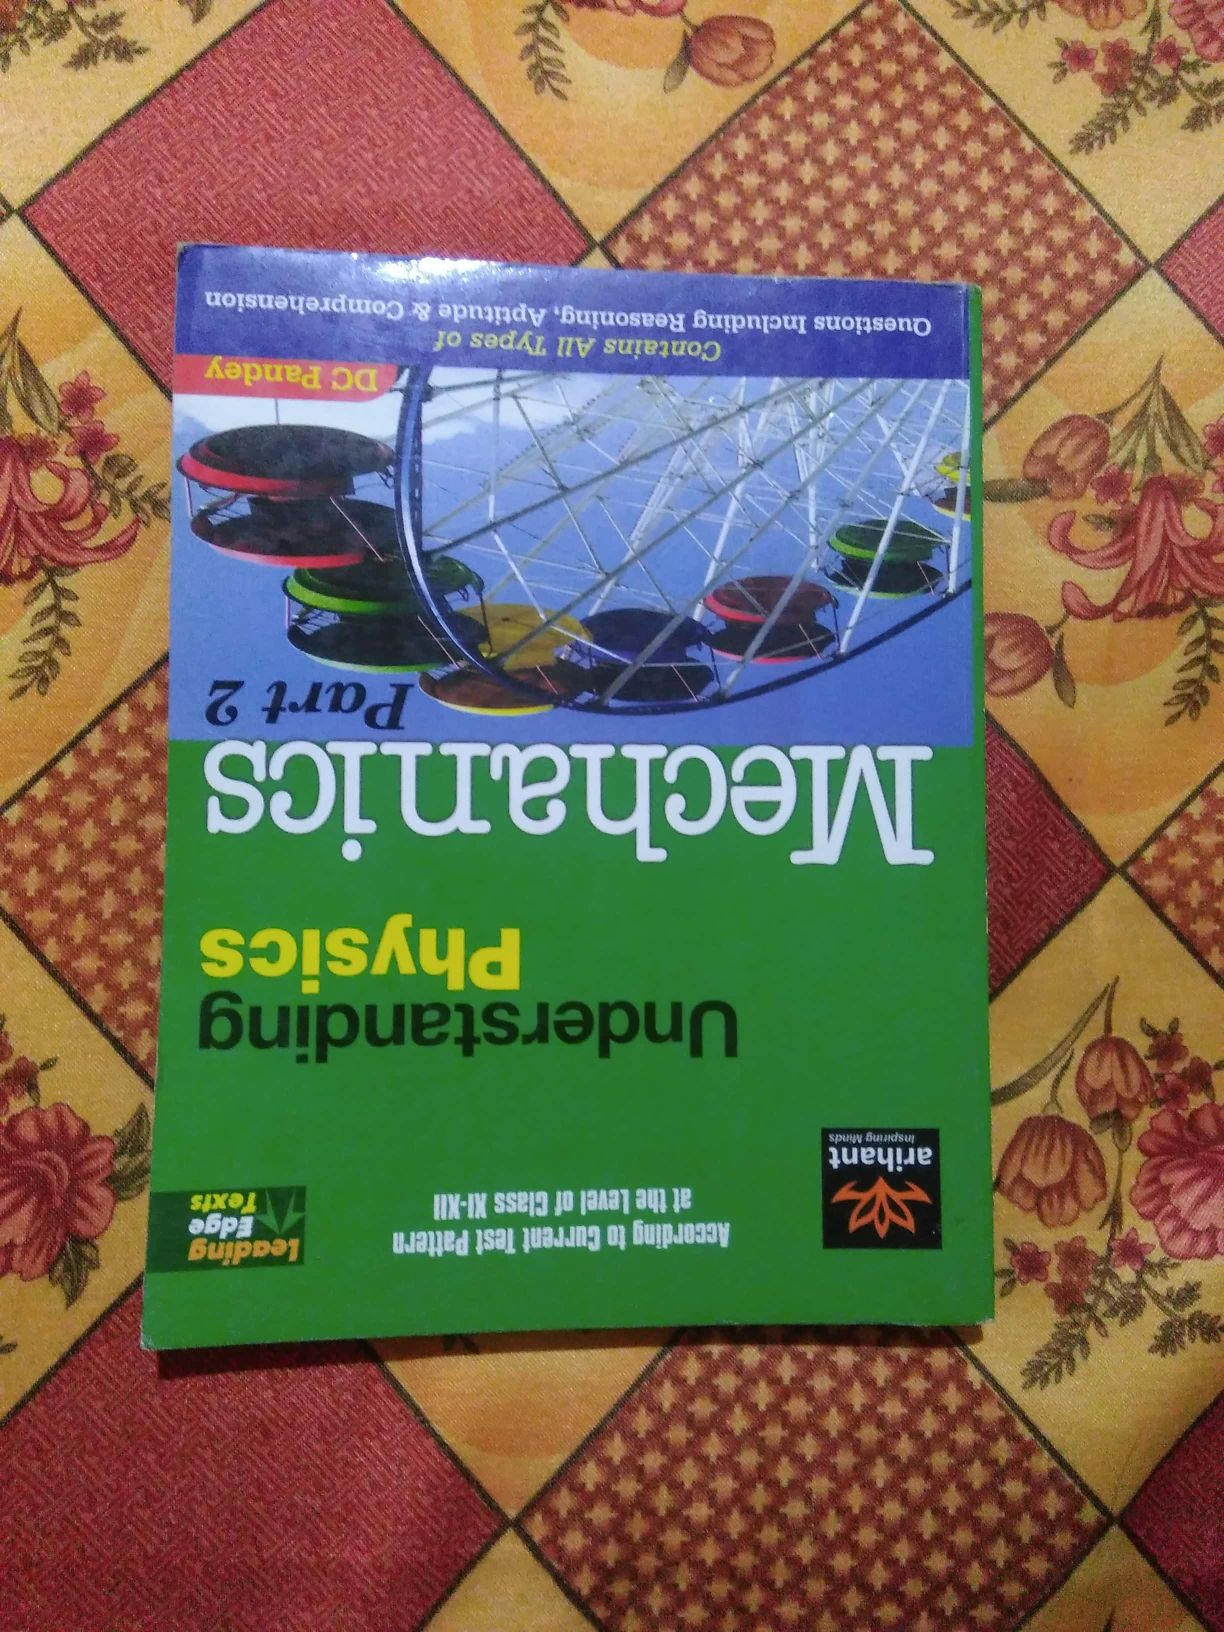mechanics: (112, 227, 1007, 1353)
